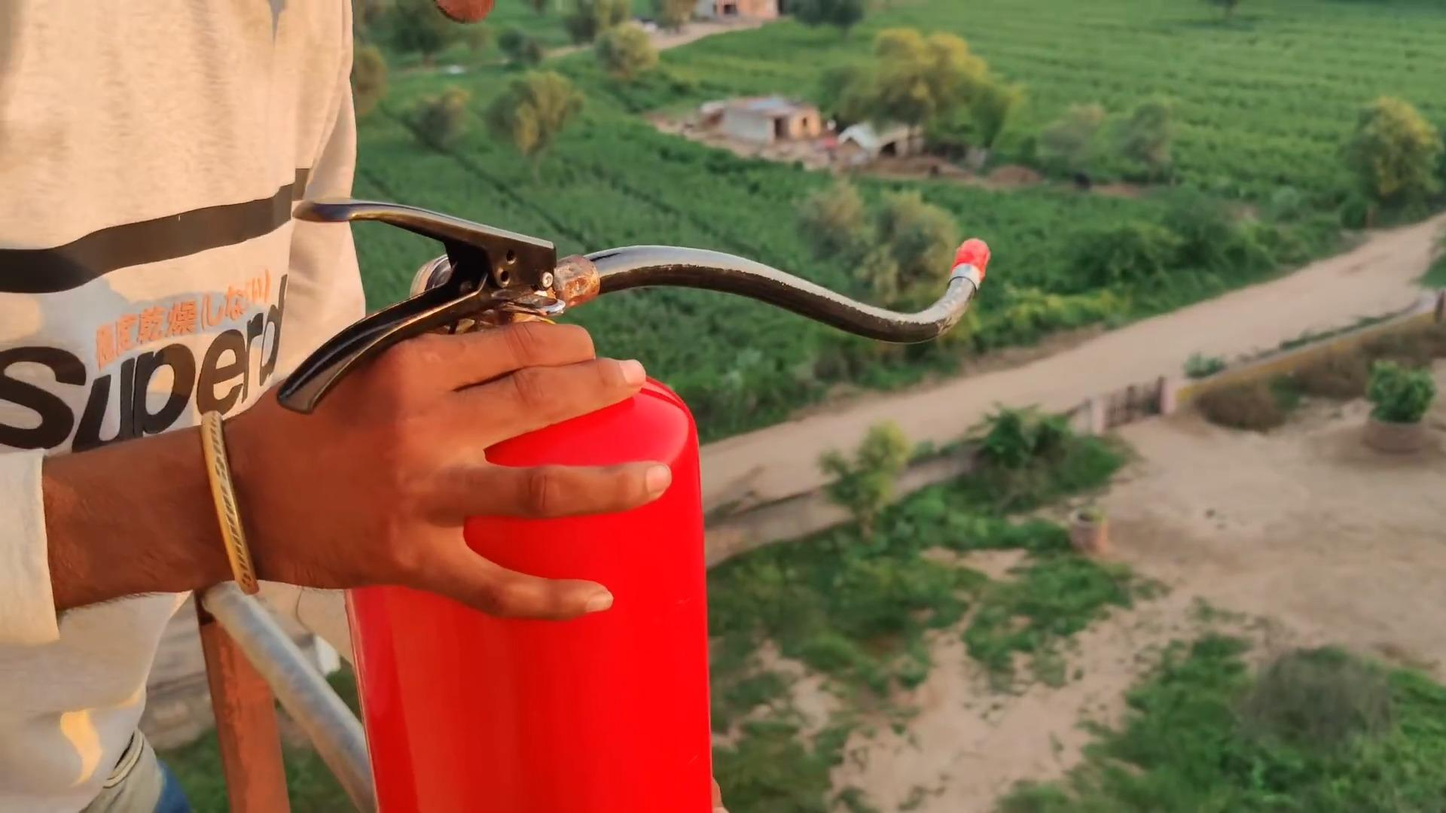FireExtinguisher: (268, 192, 776, 813)
